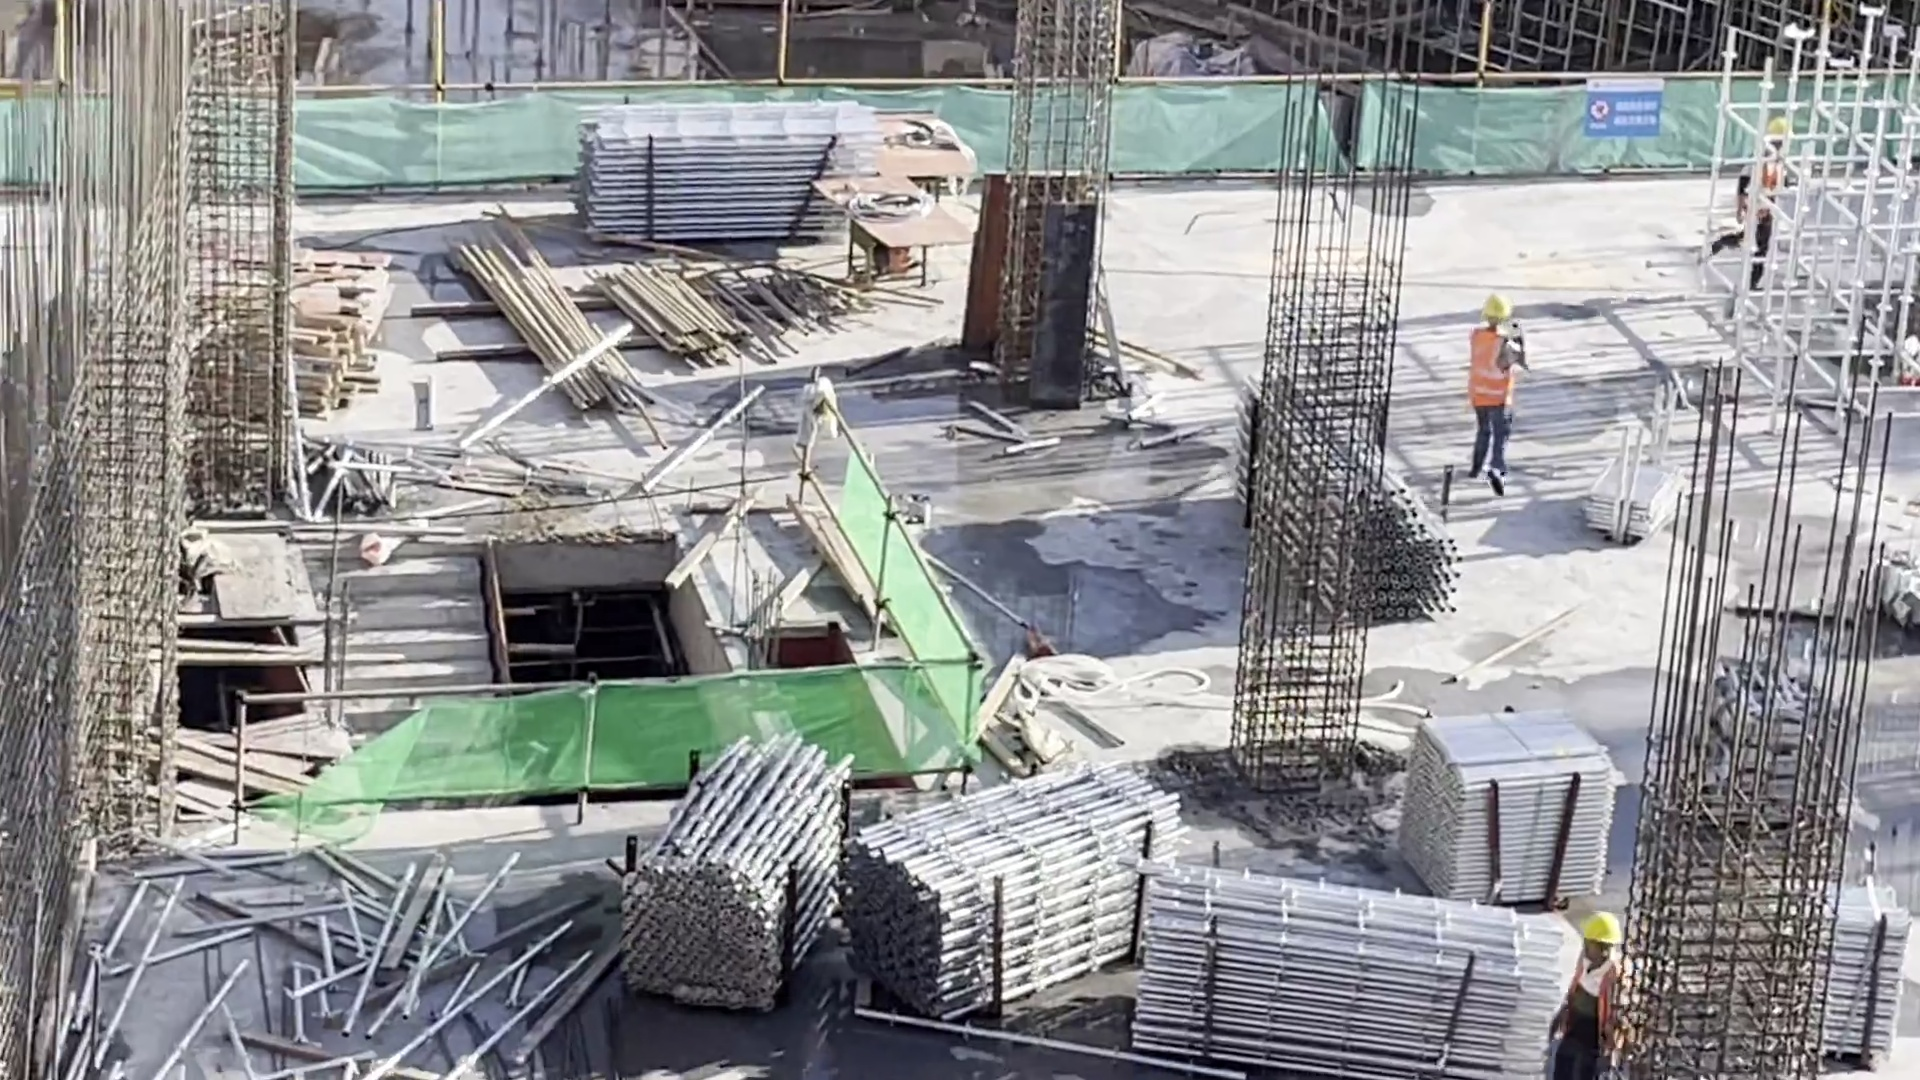cutter: (827, 168, 946, 286), (883, 113, 971, 190)
helmet: (1579, 908, 1620, 941), (1485, 295, 1514, 322), (1766, 120, 1789, 137)
person: (1700, 104, 1796, 293), (1543, 912, 1644, 1080), (1454, 289, 1530, 505)
scaffold: (1159, 900, 1537, 1073), (629, 739, 833, 1004), (907, 787, 1147, 959), (1423, 729, 1621, 921), (582, 116, 860, 248), (1269, 403, 1435, 620), (1797, 896, 1904, 1080), (1580, 432, 1665, 539)
slogan: (1584, 84, 1659, 134)
vest: (1461, 328, 1515, 411), (1567, 965, 1635, 1015), (1731, 154, 1777, 218)
wood: (210, 279, 377, 420)
